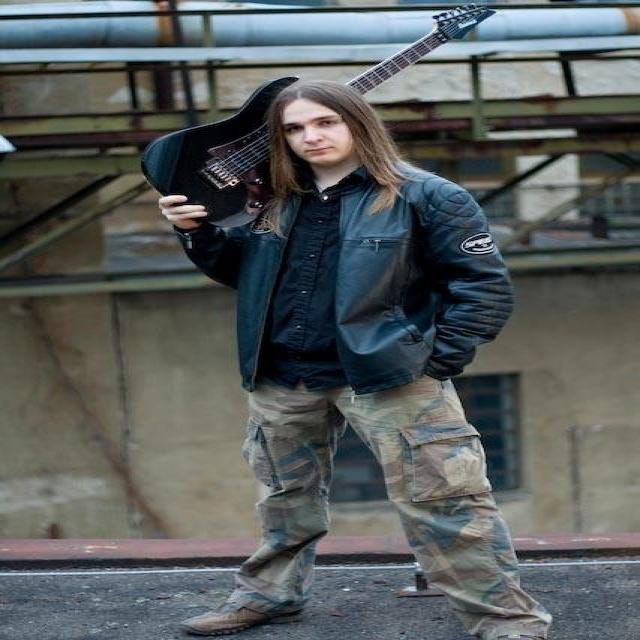guitar: (138, 0, 499, 229)
